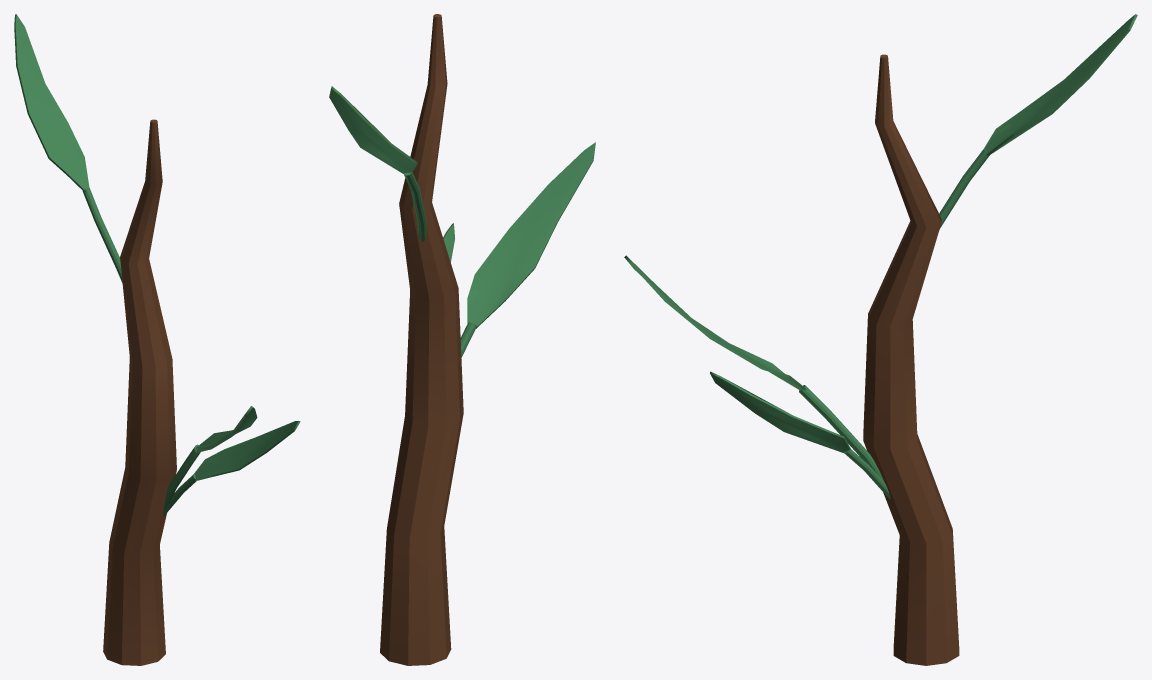
Rendered from treeSeedling.fbx.
The picture shows the model from 3 angles, left to right: view 1: azimuth 30°, elevation 25°; view 2: azimuth 150°, elevation 25°; view 3: azimuth 270°, elevation 25°; orthographic projection. The views are drawn at different scales.
Visible parts, largest first — view 1: treeSeedling; view 2: treeSeedling; view 3: treeSeedling.
Boxes of the visible parts, x1,y1,x2,y2 form: treeSeedling: [14, 14, 300, 665]; treeSeedling: [329, 14, 595, 665]; treeSeedling: [624, 14, 1137, 665].
Bounding box in the file's own units: 0.0777 × 0.3845 × 0.2862.
